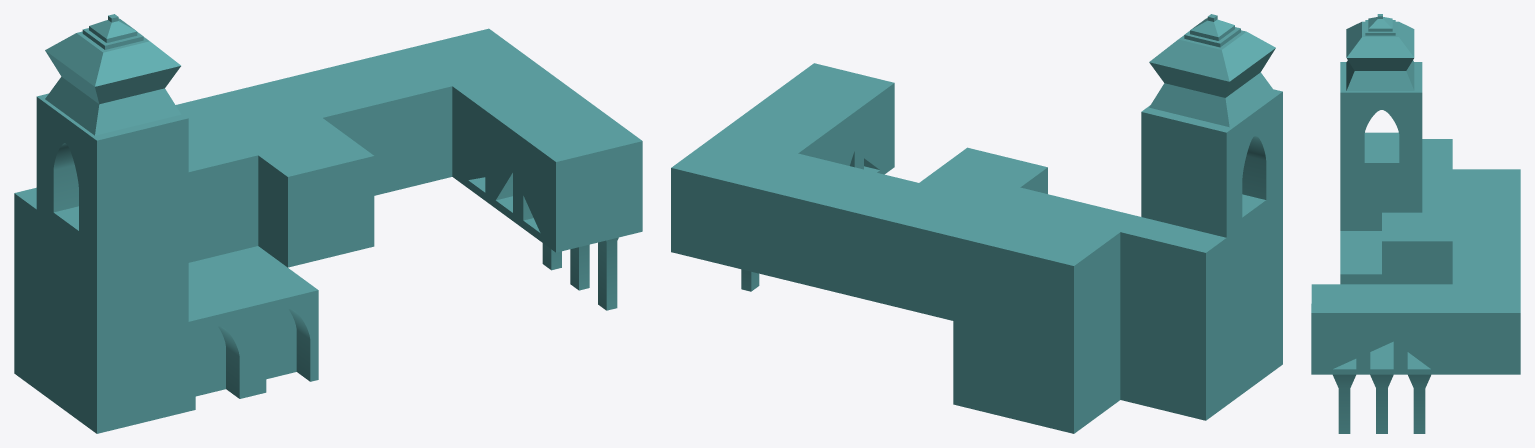
The picture shows the model from 3 angles, left to right: view 1: azimuth 30°, elevation 25°; view 2: azimuth 150°, elevation 25°; view 3: azimuth 270°, elevation 25°; orthographic projection. The views are drawn at different scales.
Parts seen in each view (by area): view 1: Base_02; view 2: Base_02; view 3: Base_02.
Part boxes in pixels (box(x1,y1,x2,y2)): Base_02: box(14, 14, 642, 433); Base_02: box(671, 14, 1282, 433); Base_02: box(1311, 14, 1520, 433).
Size of the model in its own units: 24.24 by 16.99 by 12.3.
